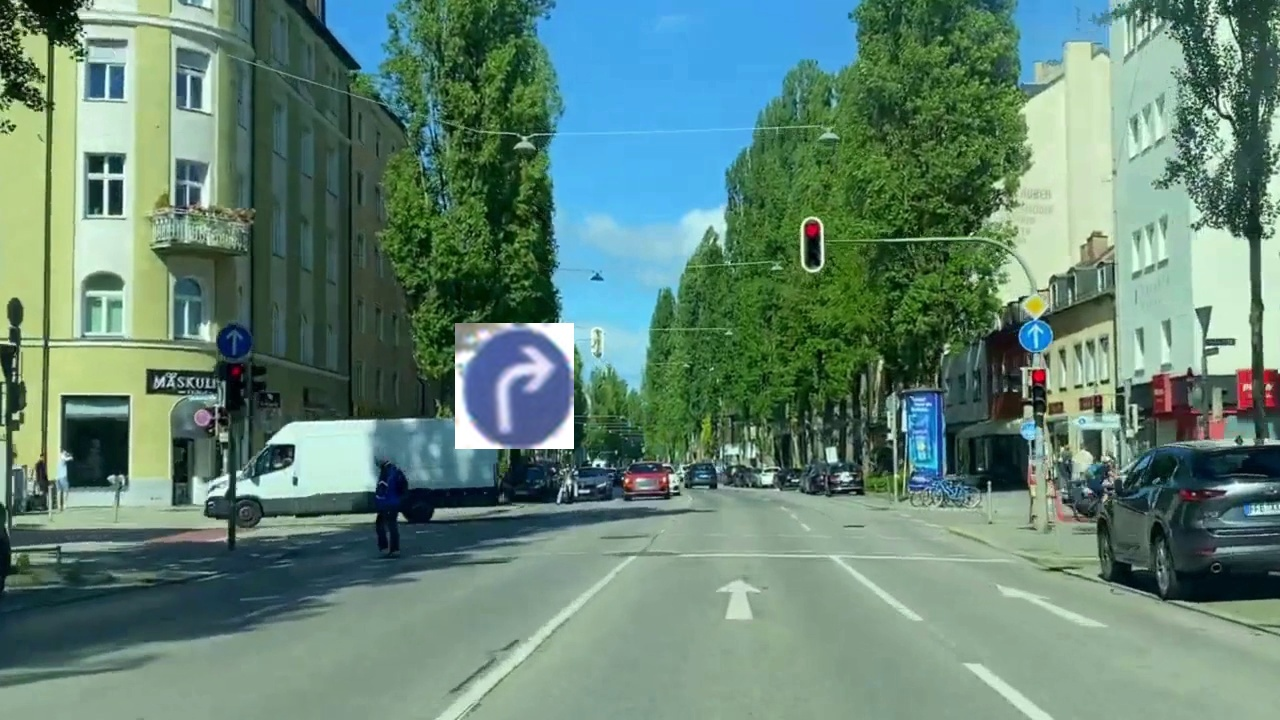Turn right: (455, 323, 574, 449)
